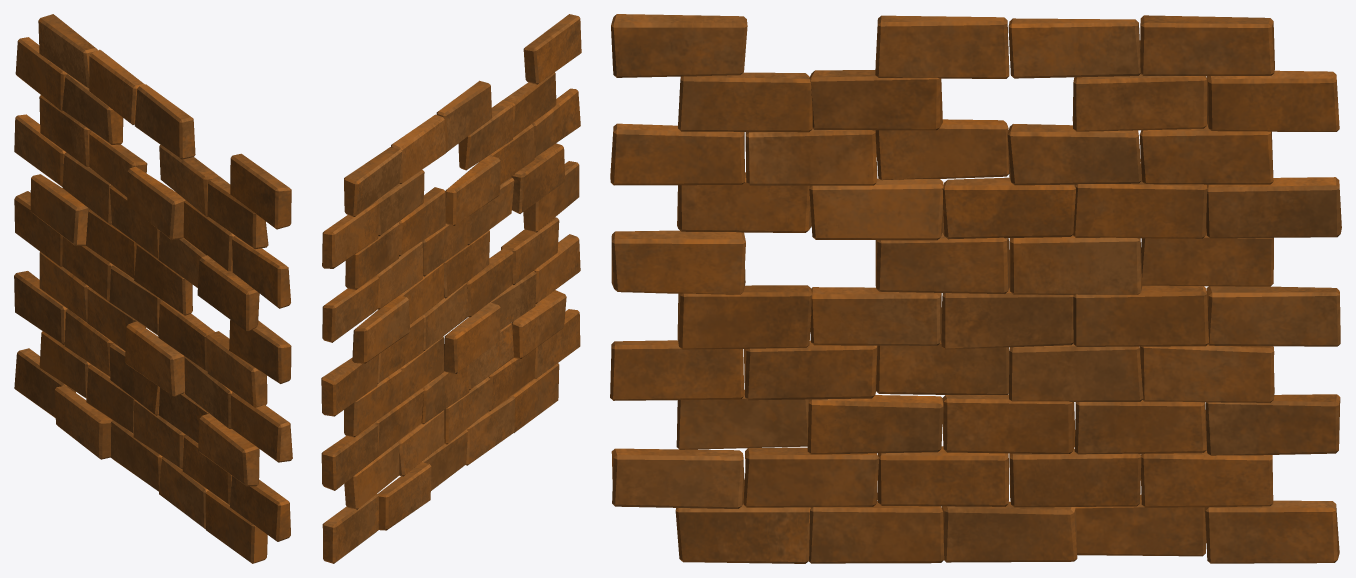
The model's file is Brick.fbx.
The picture shows the model from 3 angles, left to right: view 1: azimuth 30°, elevation 25°; view 2: azimuth 150°, elevation 25°; view 3: azimuth 270°, elevation 25°; orthographic projection. The views are drawn at different scales.
Visible parts, largest first — view 1: Brick; view 2: Brick; view 3: Brick.
Boxes of the visible parts, left/top/right/bottom form: Brick: left=14, top=14, right=292, bottom=563; Brick: left=321, top=14, right=581, bottom=563; Brick: left=610, top=14, right=1341, bottom=563.
Size of the model in its own units: 194 by 2723 by 3325.
